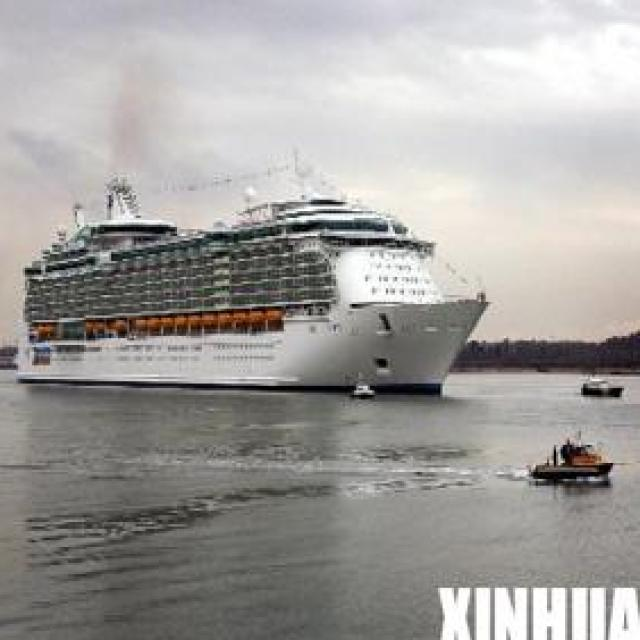houseboat: (523, 421, 616, 481), (581, 372, 625, 400), (350, 374, 378, 402)
passenger ship: (17, 174, 492, 396)
